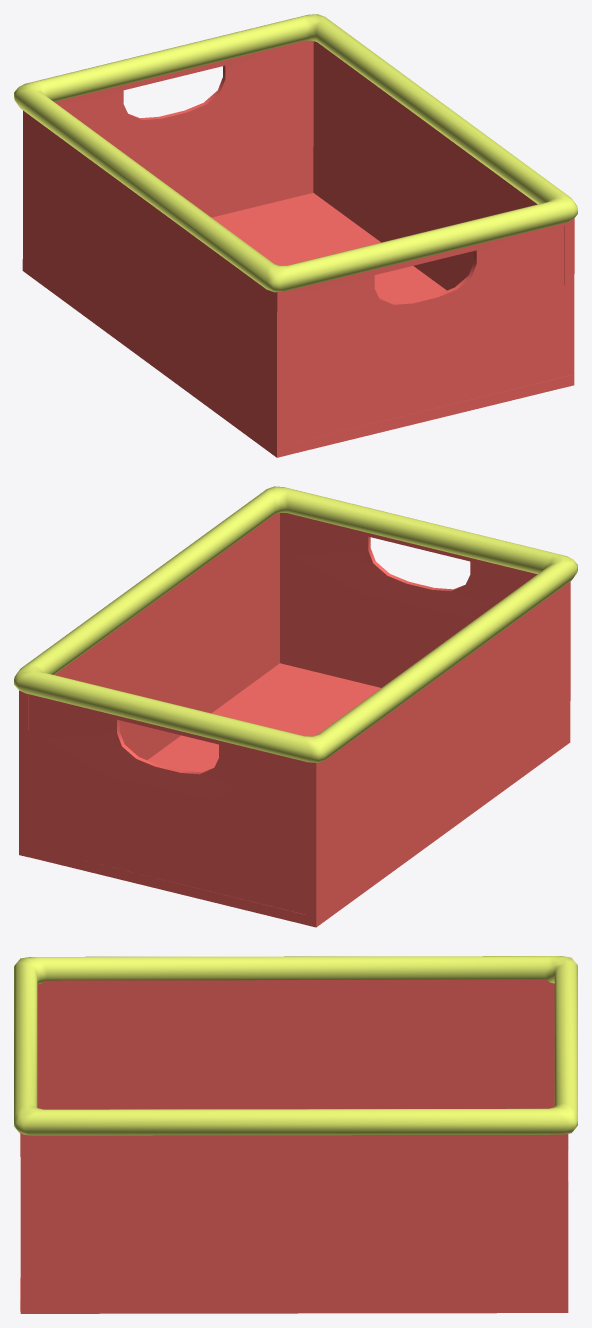
File: ToyObject_123.fbx
The picture shows the model from 3 angles, top to bottom: view 1: azimuth 30°, elevation 25°; view 2: azimuth 150°, elevation 25°; view 3: azimuth 270°, elevation 25°; orthographic projection. The views are drawn at different scales.
Parts seen in each view (by area): view 1: 1.008; view 2: 1.008; view 3: 1.008.
Boxes of the visible parts, x1=… form: 1.008: x1=14, y1=14, x2=577, y2=457; 1.008: x1=14, y1=486, x2=577, y2=927; 1.008: x1=14, y1=956, x2=577, y2=1313.
Size of the model in its own units: 0.1187 by 0.0685 by 0.174.
